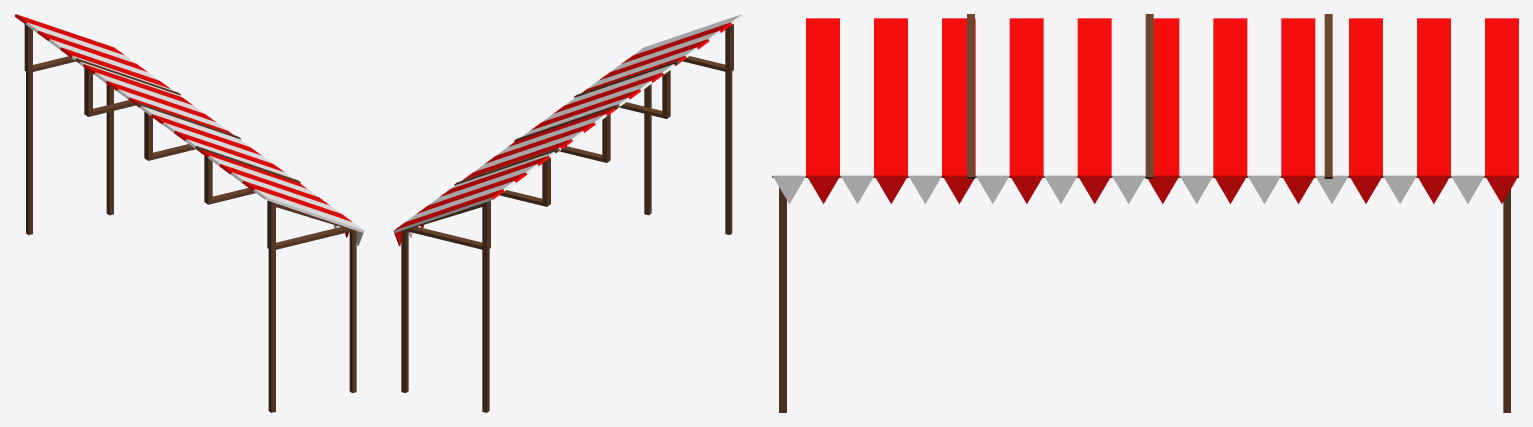
File: sunshade_Long.fbx
3 renders of one model, left to right at view 1: azimuth 30°, elevation 25°; view 2: azimuth 150°, elevation 25°; view 3: azimuth 270°, elevation 25°, orthographic. The views are drawn at different scales.
Parts seen in each view (by area): view 1: sunshade_Long; view 2: sunshade_Long; view 3: sunshade_Long.
Part boxes in pixels (<box>): sunshade_Long: <box>14,14,364,412</box>; sunshade_Long: <box>393,14,743,412</box>; sunshade_Long: <box>772,14,1518,412</box>.
Size of the model in its own units: 189 by 387 by 794.
